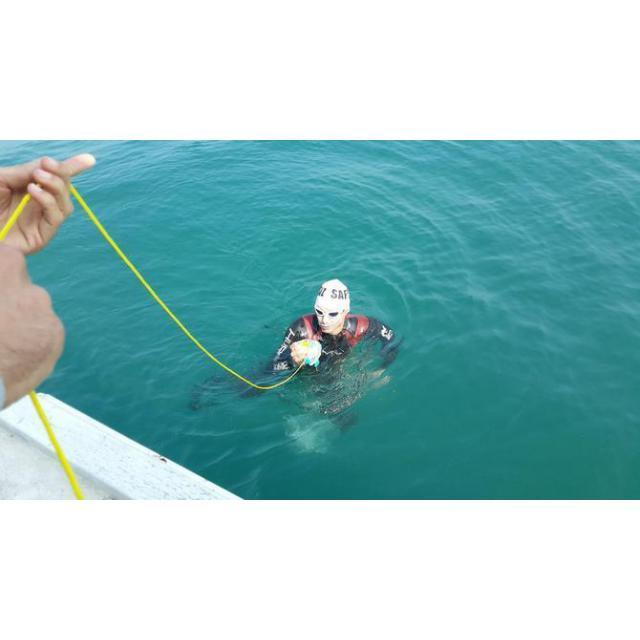human: (202, 273, 407, 418)
